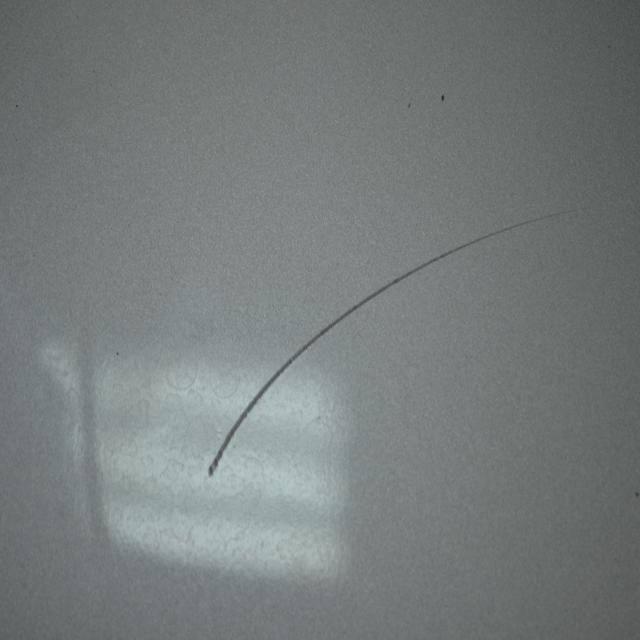dirt: (438, 88, 448, 106), (404, 97, 412, 108)
scratch: (207, 210, 558, 484)
